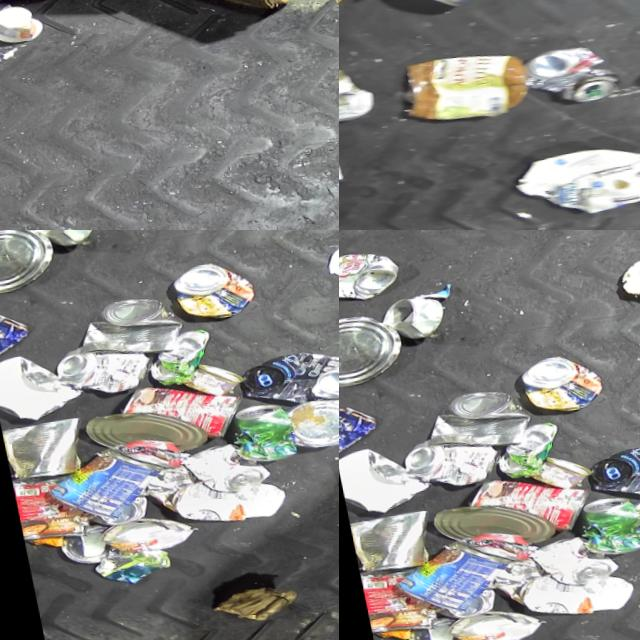can: (31, 438, 164, 527), (379, 531, 512, 620), (109, 373, 240, 453), (457, 466, 588, 546), (65, 292, 182, 366), (413, 385, 530, 459), (75, 400, 202, 465), (423, 493, 550, 558), (508, 39, 618, 113), (232, 344, 339, 413), (46, 337, 149, 401), (394, 430, 497, 494), (341, 508, 433, 575), (164, 258, 254, 325), (512, 351, 602, 418), (4, 470, 81, 545), (352, 563, 429, 638), (0, 414, 84, 482), (171, 438, 265, 498), (519, 531, 613, 591), (339, 306, 406, 389), (88, 510, 188, 557), (220, 400, 292, 465), (568, 493, 640, 558), (137, 327, 212, 387), (485, 420, 560, 480), (580, 437, 640, 506), (339, 244, 401, 307), (0, 230, 58, 296), (435, 603, 535, 640), (372, 292, 444, 343), (279, 393, 339, 453), (174, 358, 239, 401), (522, 451, 587, 494), (47, 522, 106, 567), (339, 56, 376, 126), (339, 399, 379, 460), (79, 495, 143, 528), (427, 588, 491, 621), (0, 306, 31, 367), (394, 614, 453, 640), (24, 230, 96, 250)
